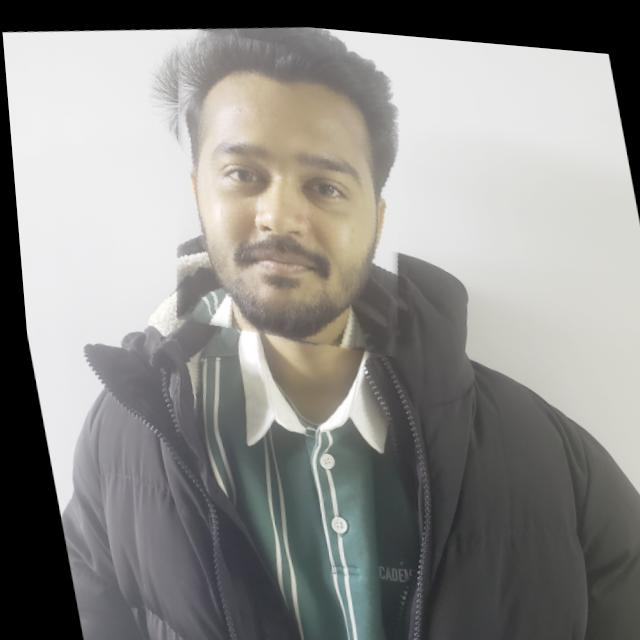sad: (135, 9, 435, 365)
